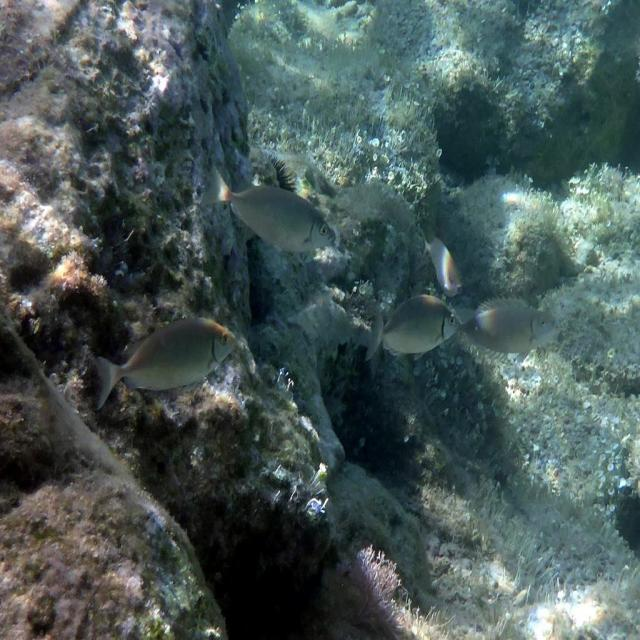Sokar Baligi: (201, 148, 340, 284), (87, 310, 241, 414), (358, 290, 463, 374)
